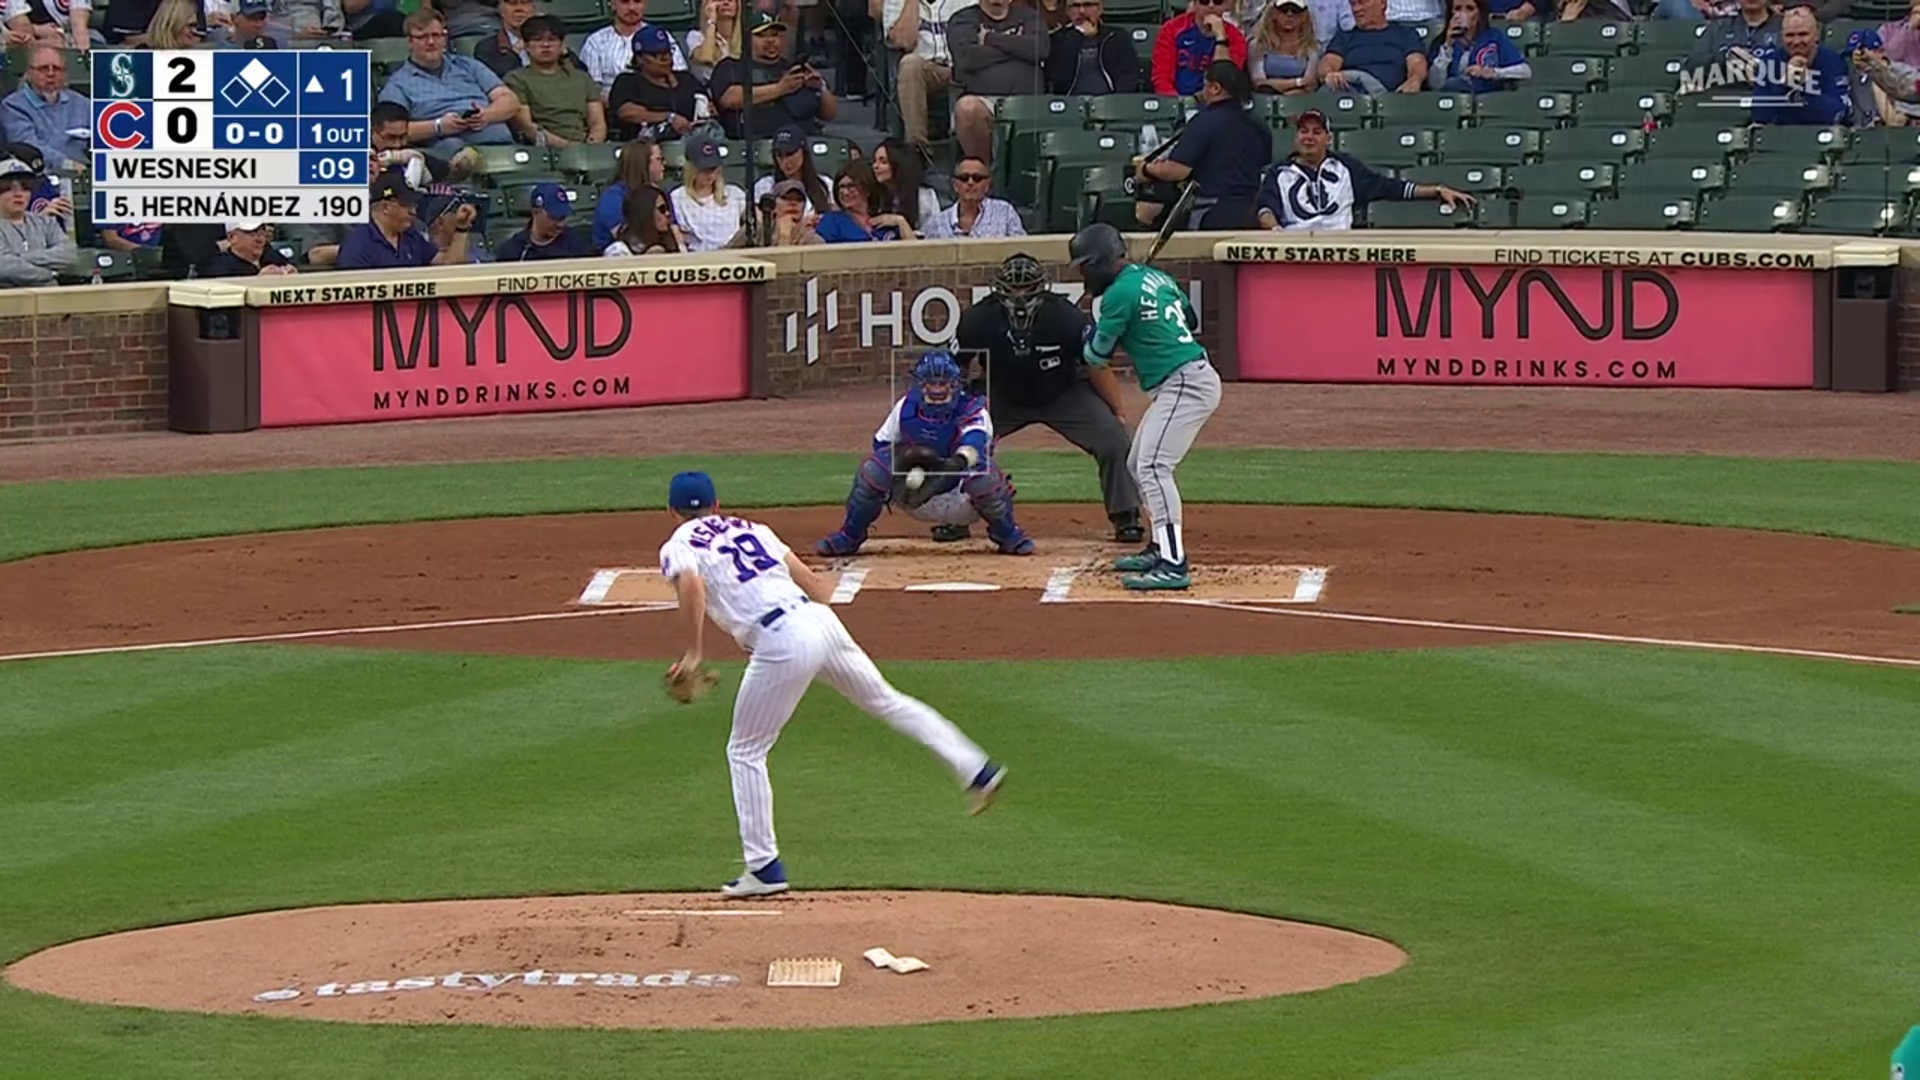baseball: (905, 465, 923, 489)
